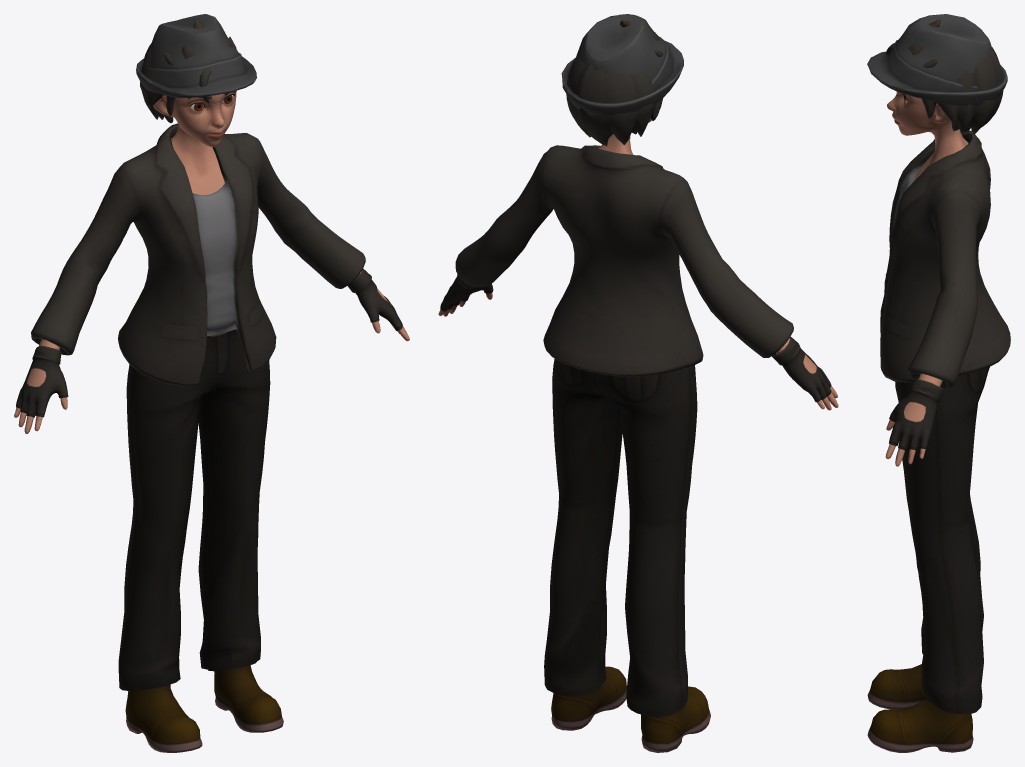
File: Kaya_Mesh.obj
3 renders of one model, left to right at view 1: azimuth 30°, elevation 25°; view 2: azimuth 150°, elevation 25°; view 3: azimuth 270°, elevation 25°, orthographic.
Visible parts, largest first — view 1: Kaya_Mesh_0; view 2: Kaya_Mesh_0; view 3: Kaya_Mesh_0.
Part boxes in pixels (box(x1,y1,x2,y2)): Kaya_Mesh_0: box(14, 14, 409, 752); Kaya_Mesh_0: box(438, 14, 838, 752); Kaya_Mesh_0: box(867, 14, 1010, 752).
Bounding box in the file's own units: 1.06 × 1.84 × 0.3407.
Materials: 1 (1 with a texture image).
